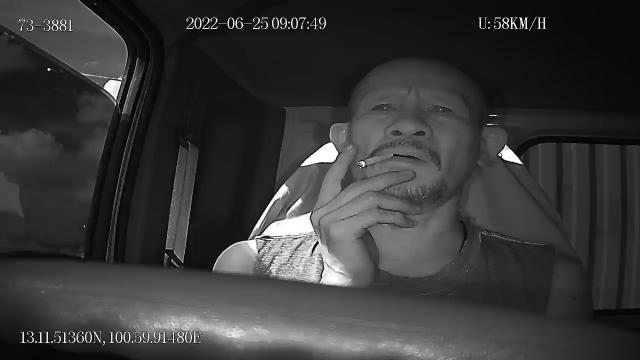SafeDriving: (362, 93, 402, 122), (420, 95, 460, 124)
Smoking: (357, 150, 393, 168)
